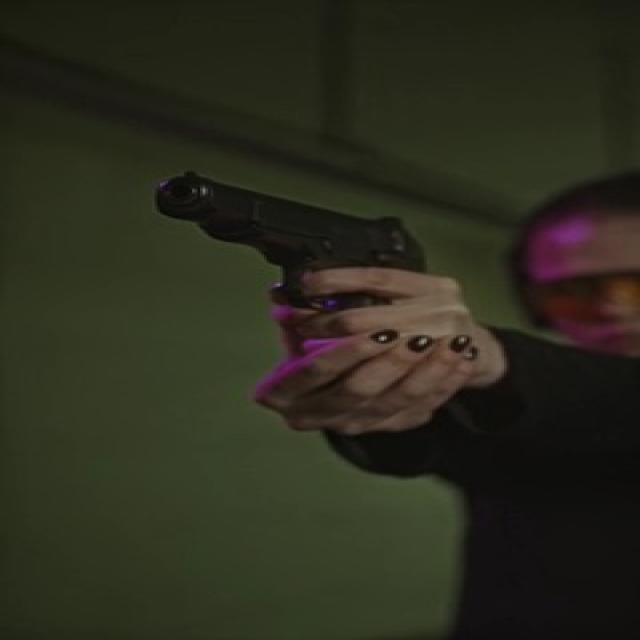Gun_Holder: (113, 168, 530, 464)
Person: (266, 135, 640, 640)
